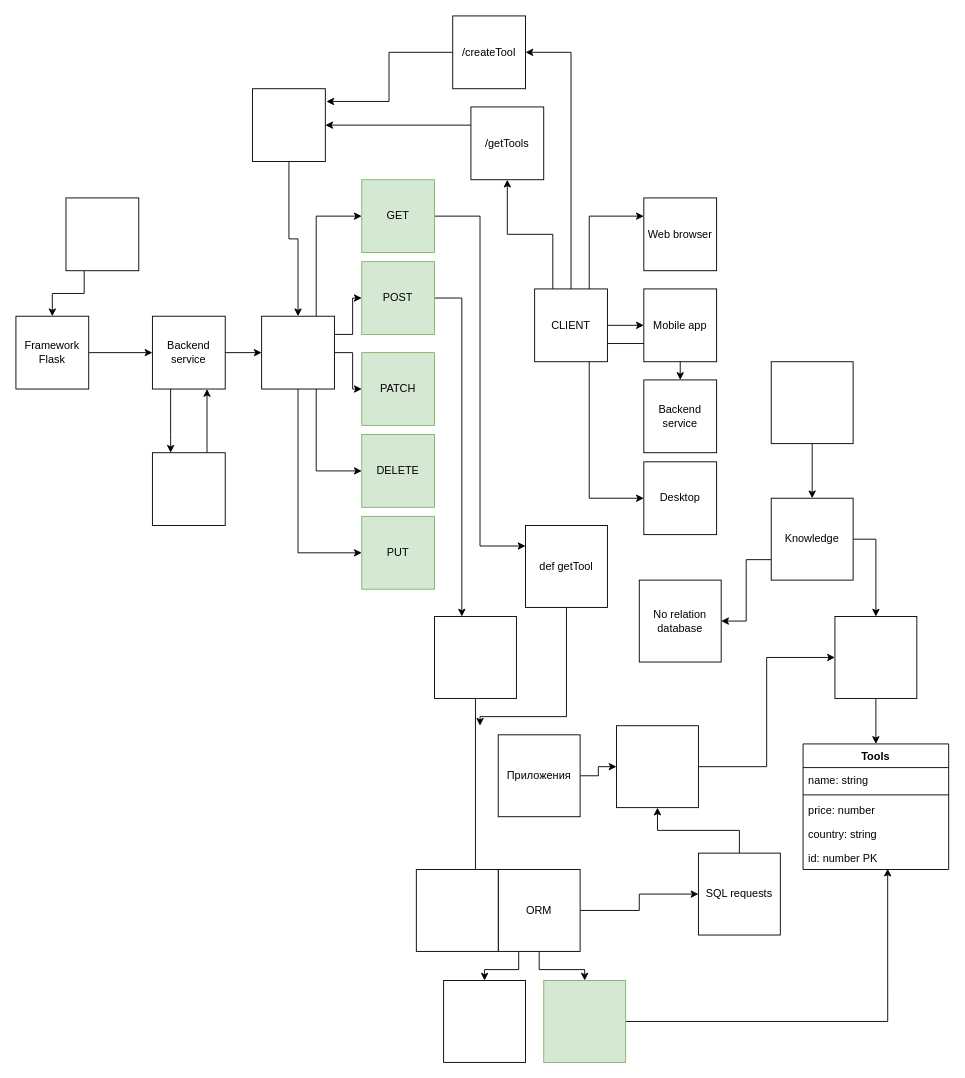
This 965x1078 diagram has some shape labels left out. Each missing label, with the centre of its shape:
"API" goes at (297,352).
"Code First" goes at (584,1021).
"Database" goes at (188,489).
"Database First" goes at (484,1021).
"def createTool" goes at (475,657).
"Information" goes at (811,402).
"Python" goes at (102,234).
"Relation databases" goes at (875,657).
"Routes" goes at (288,125).
"SQLAlchemy" goes at (456,910).
"СУБД" goes at (657,766).
